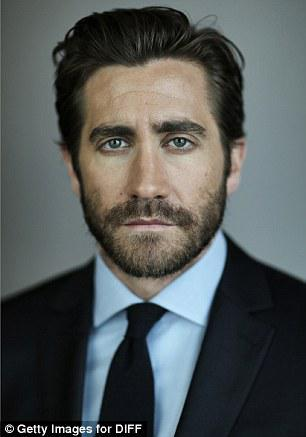Sober: (86, 78, 223, 250)
